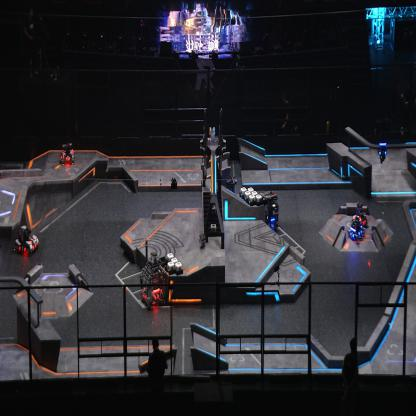car: (139, 260, 168, 308), (258, 190, 280, 232), (12, 223, 39, 256), (350, 202, 368, 228), (58, 142, 76, 166), (350, 214, 365, 238), (348, 222, 361, 240)
